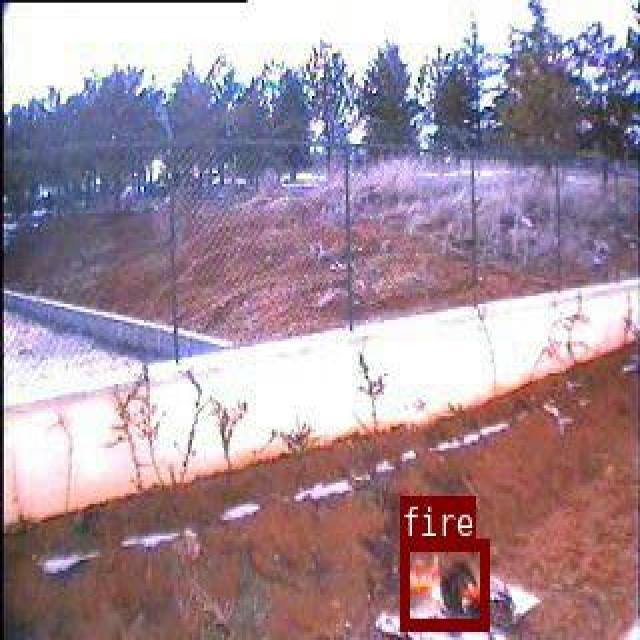fire: (399, 539, 487, 629)
